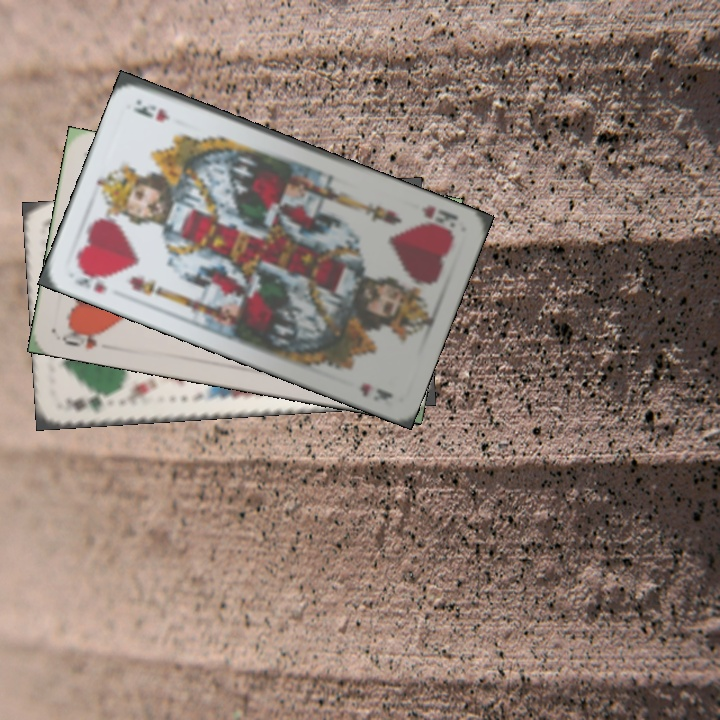GK: (60, 390, 118, 414)
HK: (71, 261, 110, 296), (417, 201, 461, 230)
HO: (58, 323, 108, 353)
